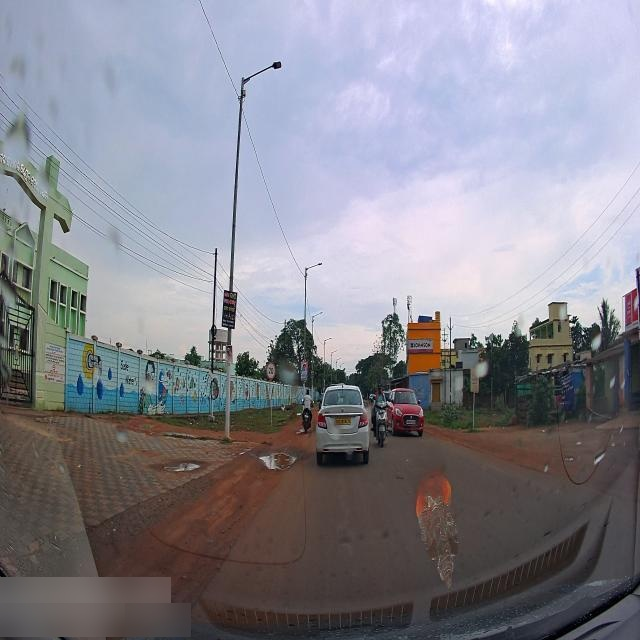pothole: (166, 449, 207, 479), (257, 450, 295, 474)
